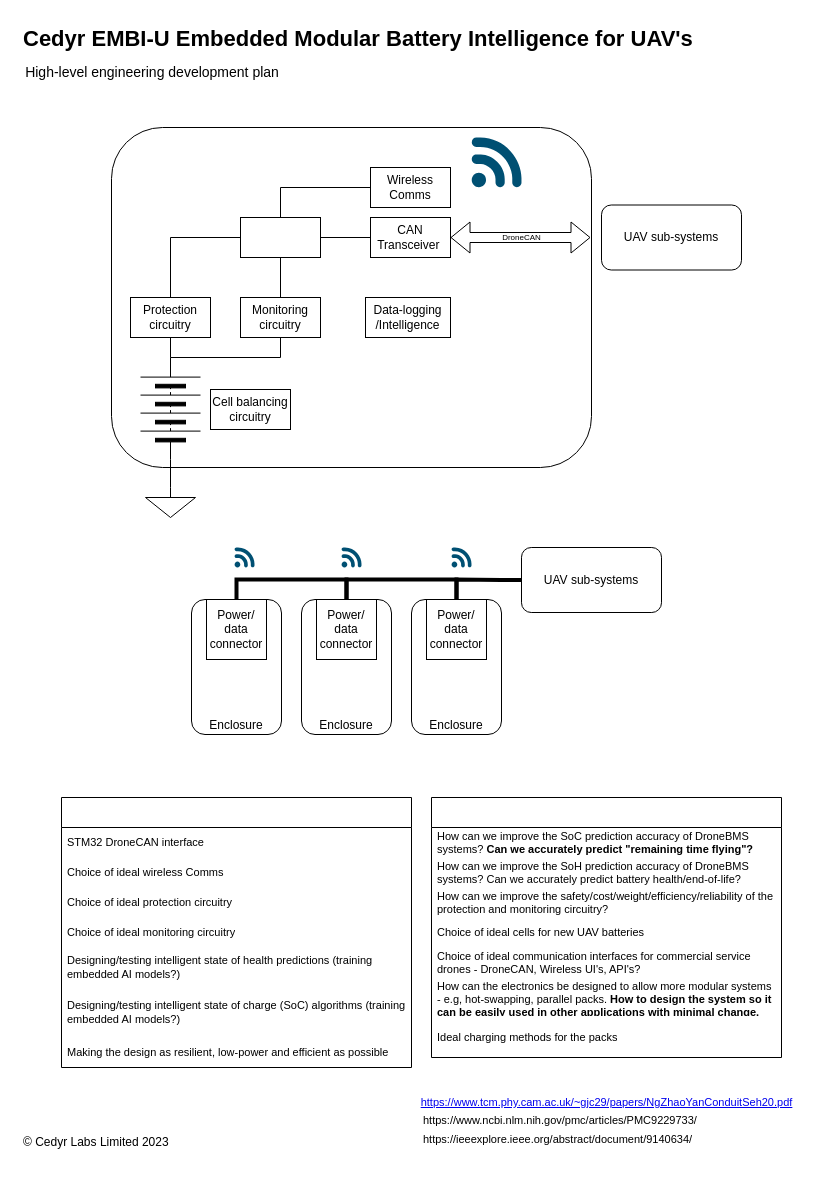
Image size: 823x1183. Some labels were removed from this diagram. The box of each missing label's shape, as (x1, y1, x2, y2) in pixels:
Engineering development questions to be answered: (430, 796, 782, 1058)
Engineering tasks to be done: (60, 796, 412, 1068)
STM32 MCU: (240, 216, 320, 258)
